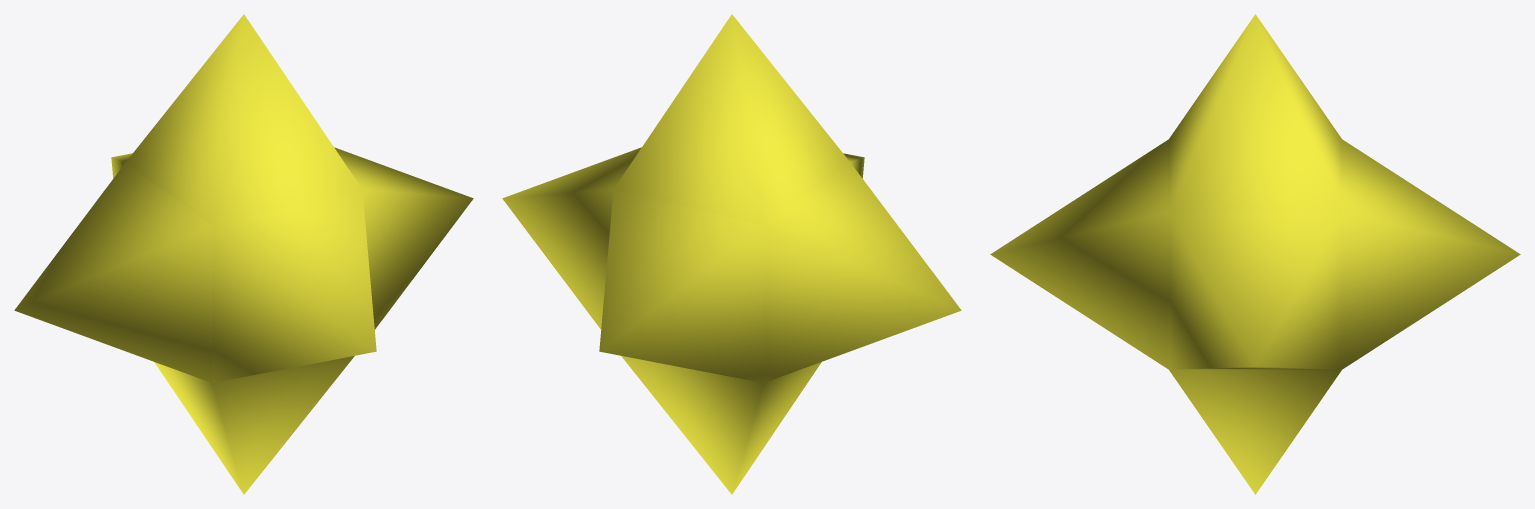
The model's file is Pin-Pong_Star.fbx.
3 renders of one model, left to right at view 1: azimuth 30°, elevation 25°; view 2: azimuth 150°, elevation 25°; view 3: azimuth 270°, elevation 25°, orthographic.
Parts seen in each view (by area): view 1: pCubeStar; view 2: pCubeStar; view 3: pCubeStar.
Boxes of the visible parts, x1,y1,x2,y2 form: pCubeStar: (14, 14, 473, 494); pCubeStar: (502, 14, 961, 494); pCubeStar: (990, 14, 1520, 494).
Size of the model in its own units: 31.75 by 31.75 by 31.75.
